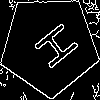H: (24, 20, 81, 77)
